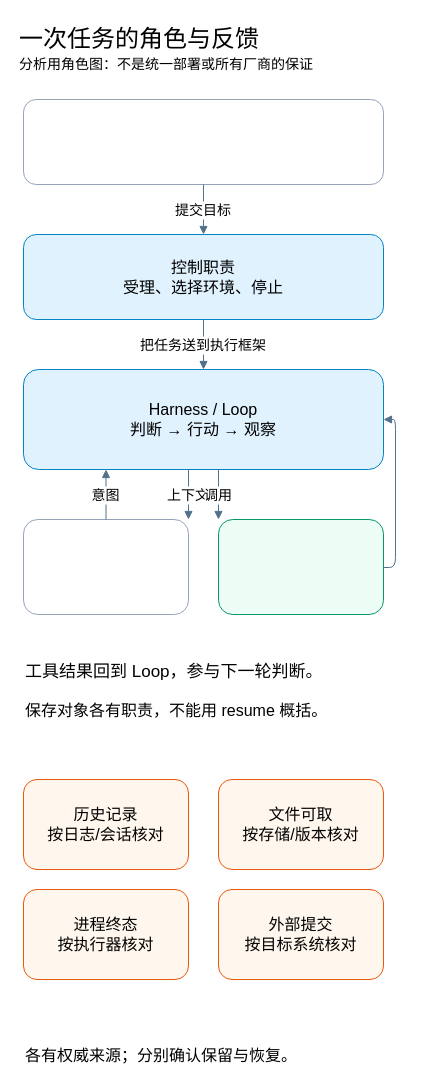
Image size: 421x1086. Some labels were removed from this diagram. The box of each missing label's shape, as (x1, y1, x2, y2) in pixels:
Sandbox 实际操作: (218, 518, 384, 614)
模型服务 下一步意图: (22, 518, 188, 614)
用户 / 界面 提交目标、看结果: (22, 98, 384, 184)
